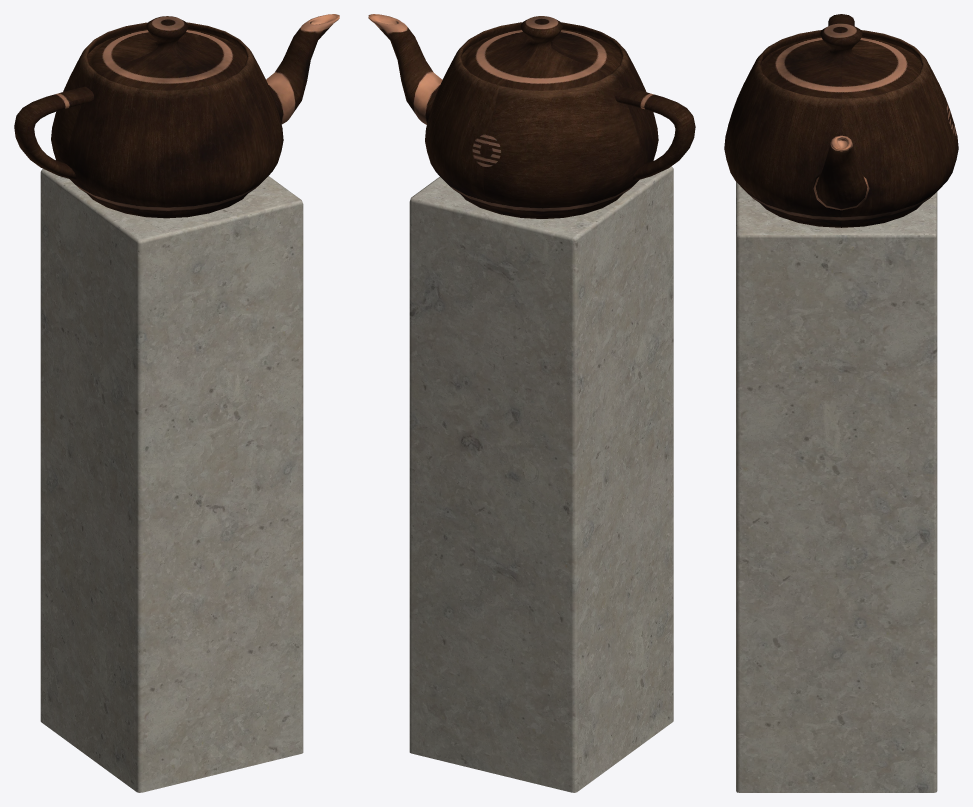
Rendered from utah.glb.
The picture shows the model from 3 angles, left to right: view 1: azimuth 30°, elevation 25°; view 2: azimuth 150°, elevation 25°; view 3: azimuth 270°, elevation 25°; orthographic projection.
Bounding box in the file's own units: 0.7735 × 1.63 × 0.4812.
Materials: 2 (2 with a texture image).
